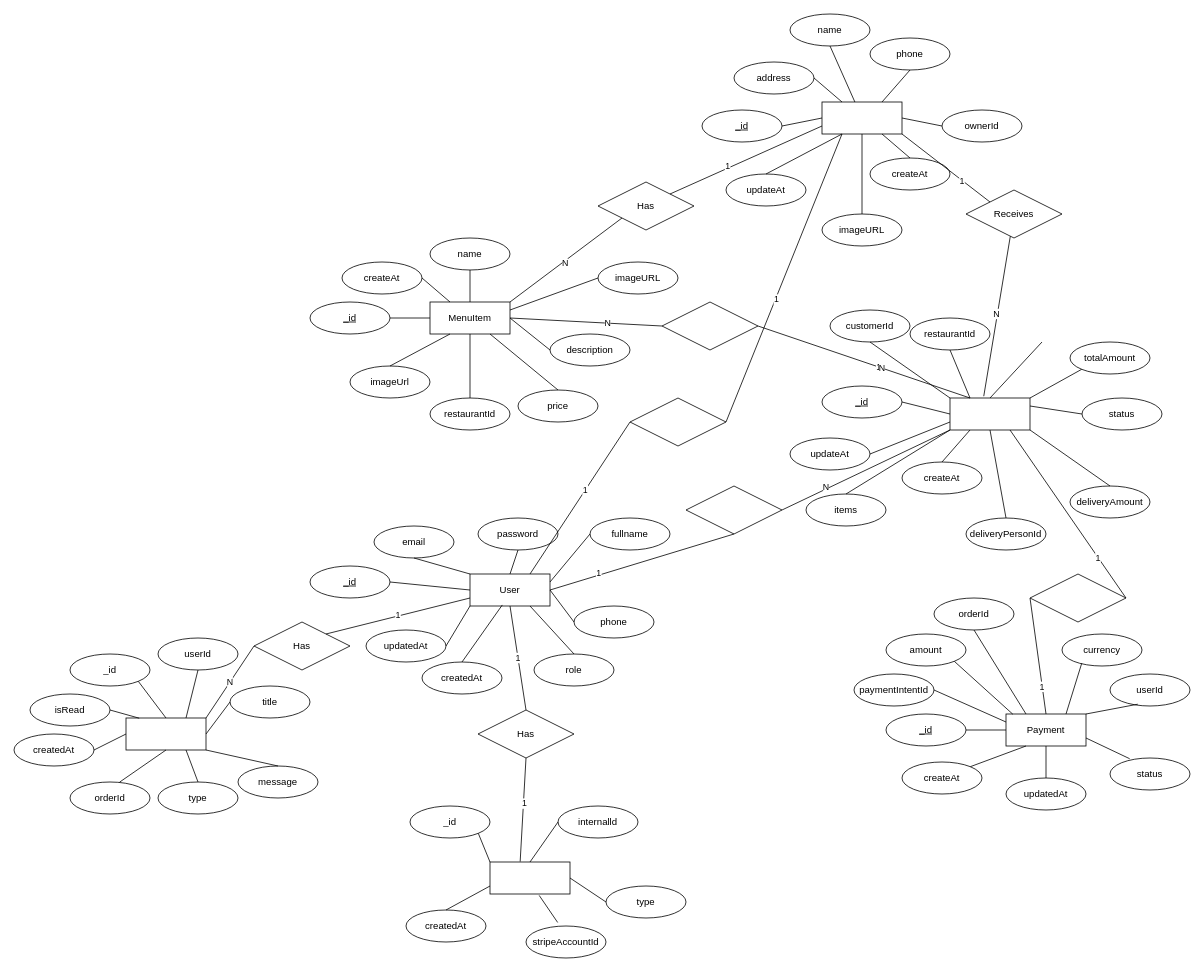
The diagram is 1204 pixels wide and 972 high, and some of its shapes have lost their labels. Each missing label, with the centre of its shape:
ConnectAccount: pixel 529 877
Contains: pixel 709 325
Create: pixel 733 509
Notification: pixel 165 733
Order: pixel 989 413
Owner: pixel 677 421
Pay: pixel 1077 597
Restaurant: pixel 861 117
